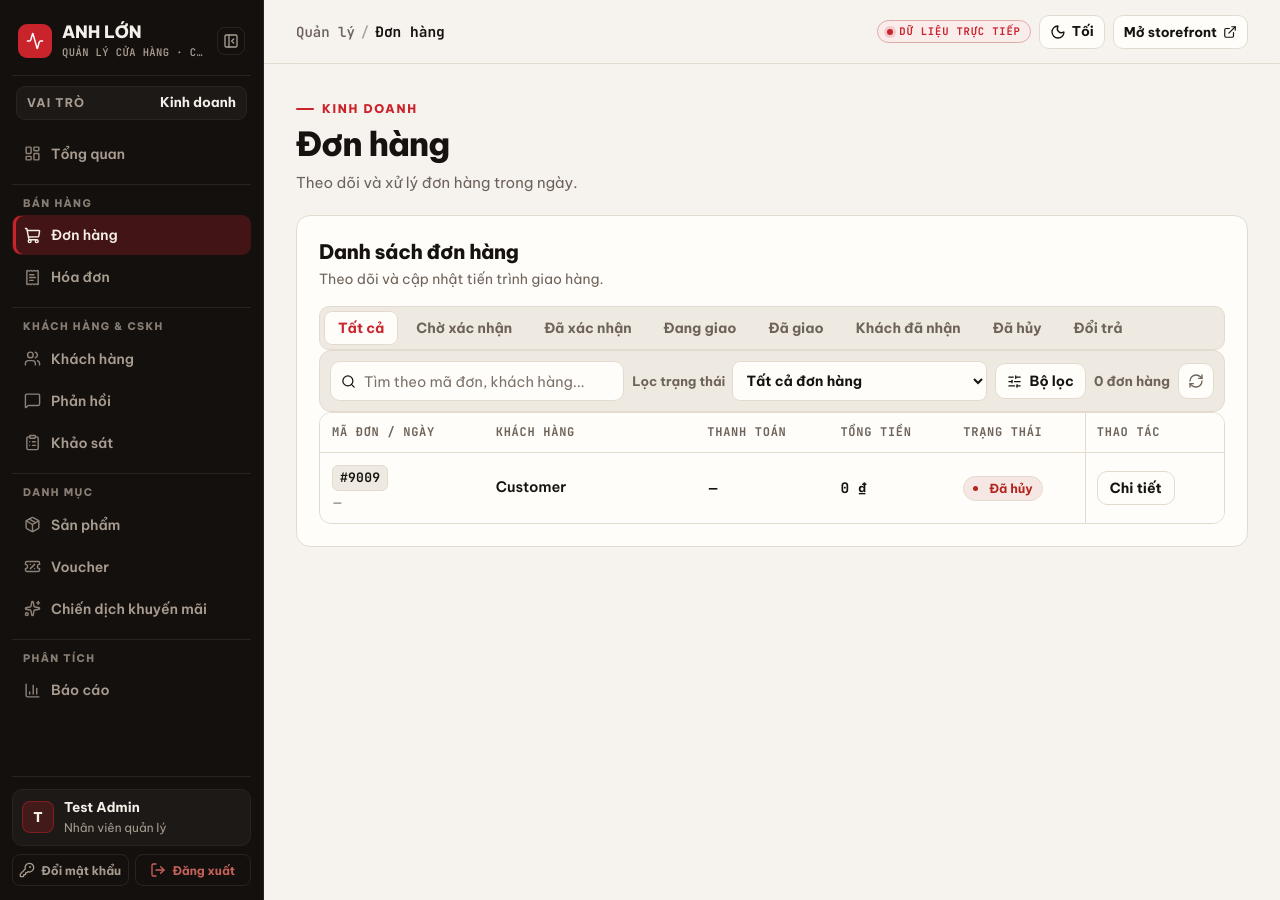
it: manager navigation › supplements the reason on a legacy cancelled order
The image size is (1280, 900).
Click the button "Chi tiết". click: (1136, 488)
box: left=1097, top=471, right=1175, bottom=505
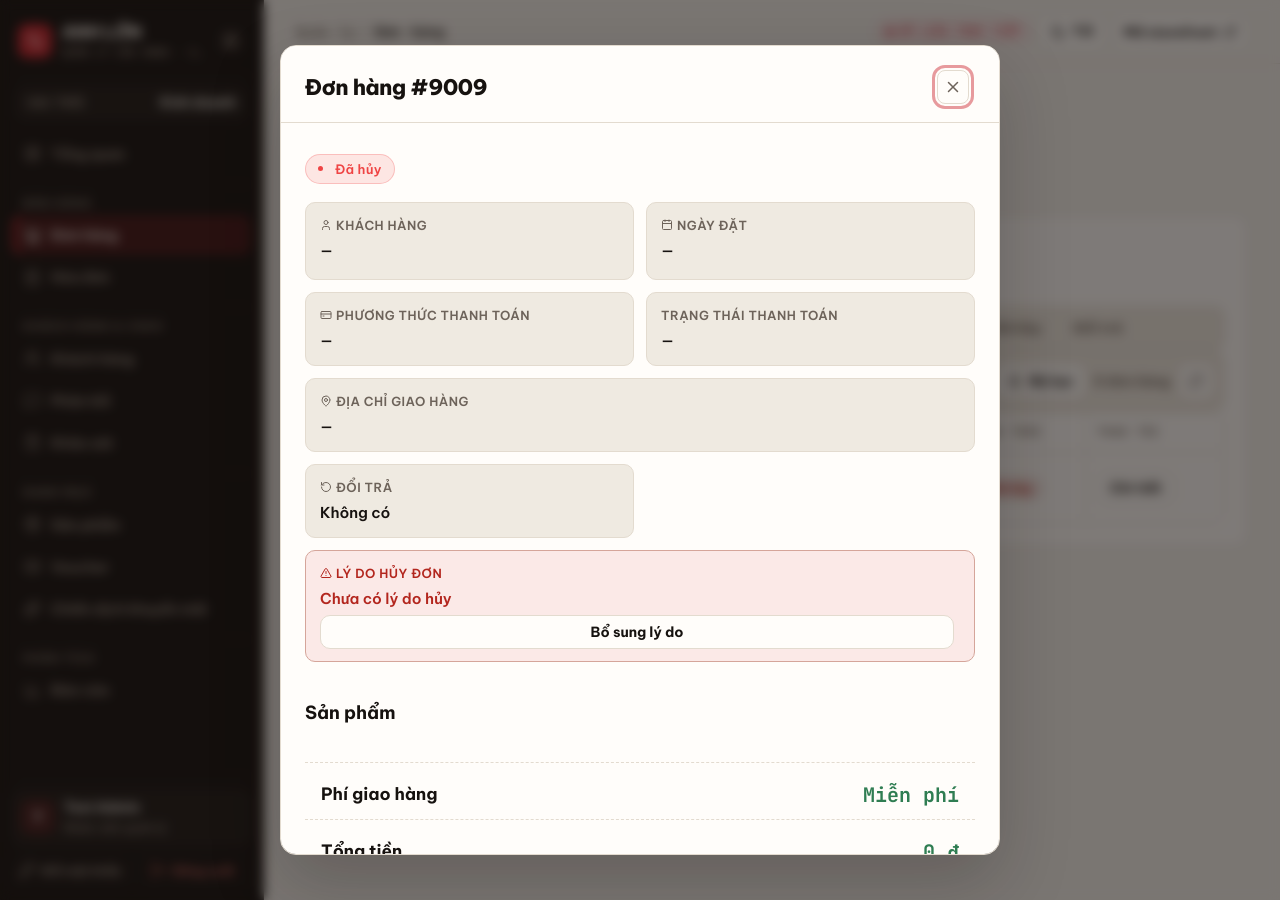
Click the button "Bổ sung lý do". click: (637, 632)
box: left=320, top=615, right=954, bottom=649
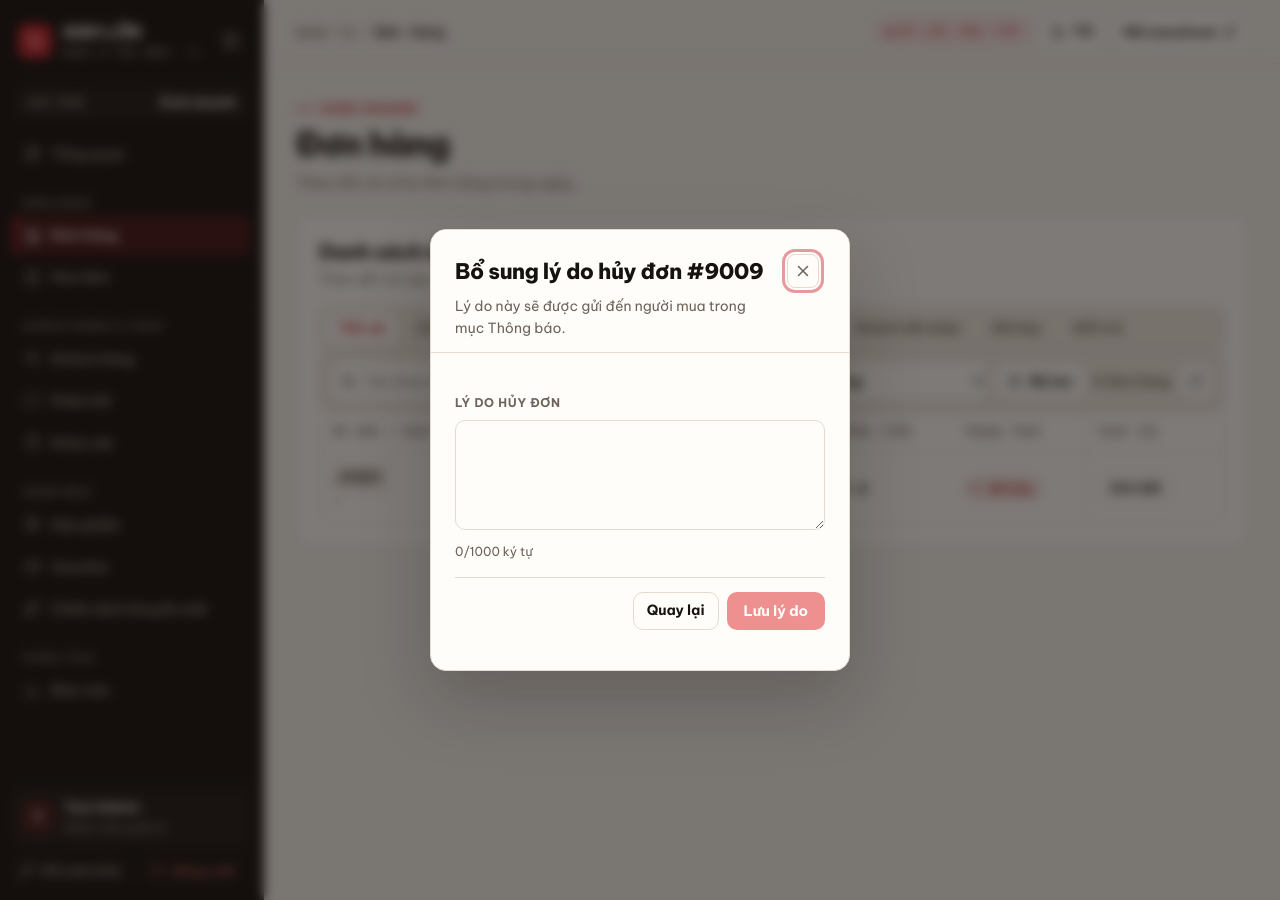
Type "Không giao được" into the text box labelled "Lý do hủy đơn". click: (640, 475)
box: left=455, top=420, right=825, bottom=530
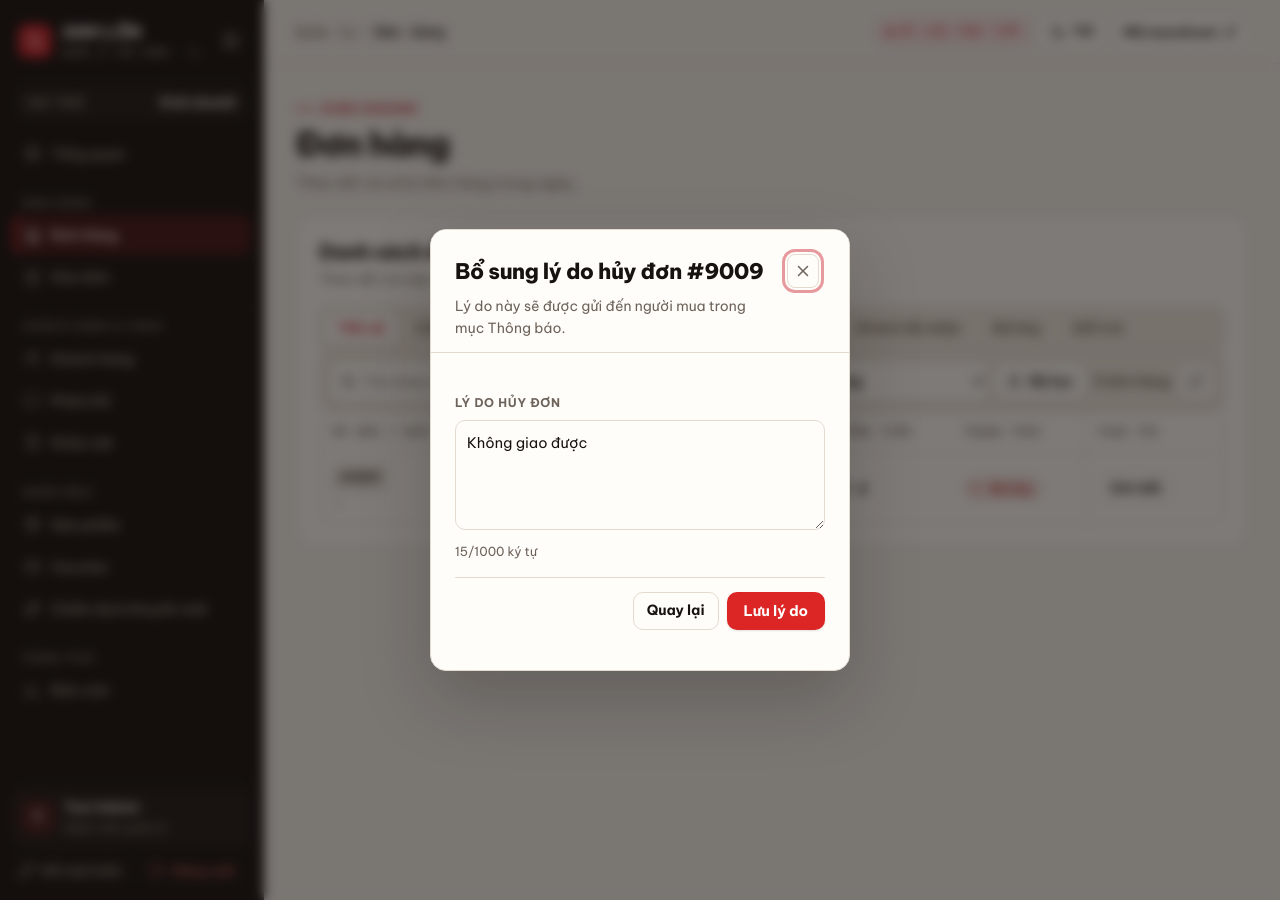
Click the button "Lưu lý do". click: (776, 611)
box: left=727, top=592, right=825, bottom=630
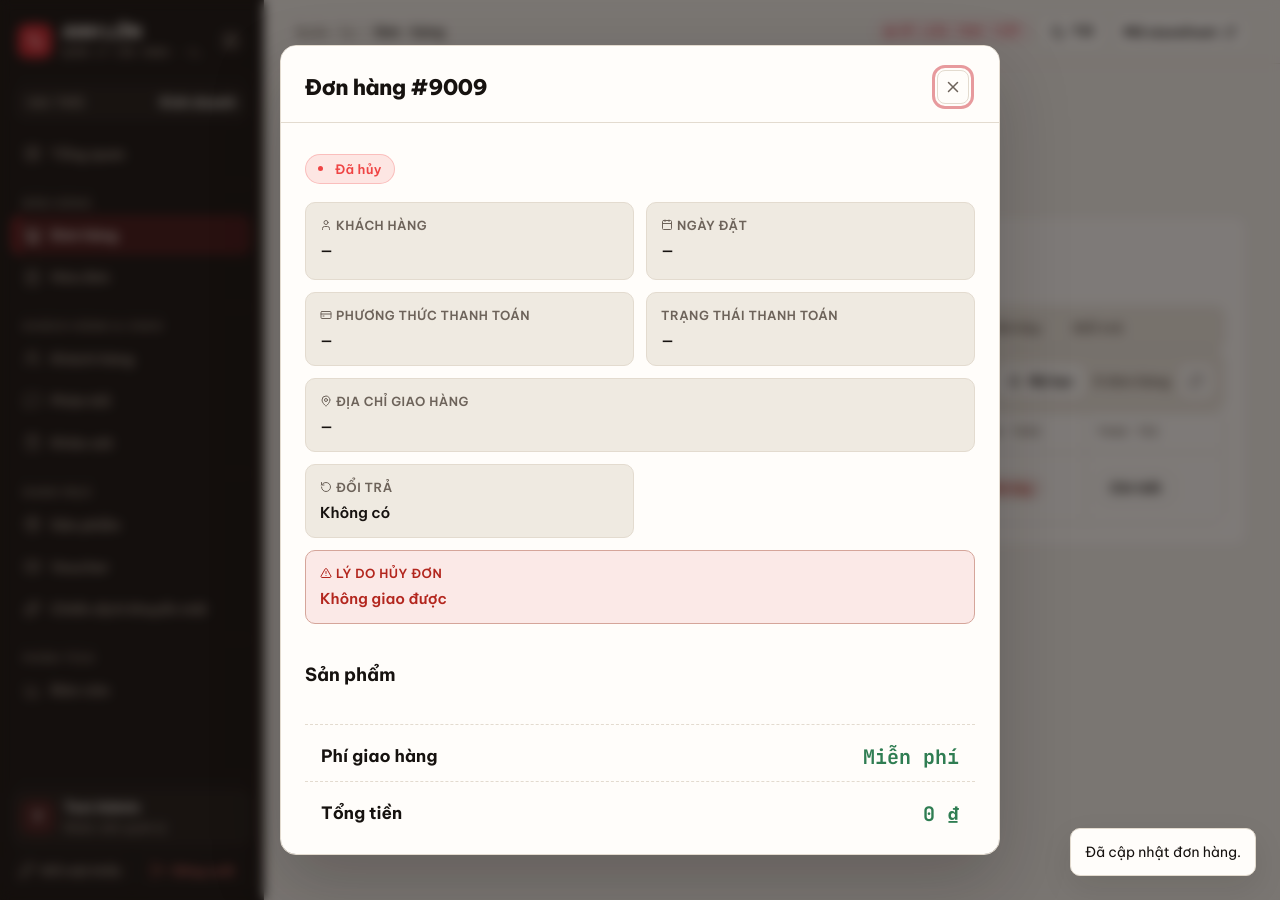
Check: the text "Không giao được" is shown, box left=320, top=589, right=447, bottom=608
Check: the heading "Bổ sung lý do" is gone
